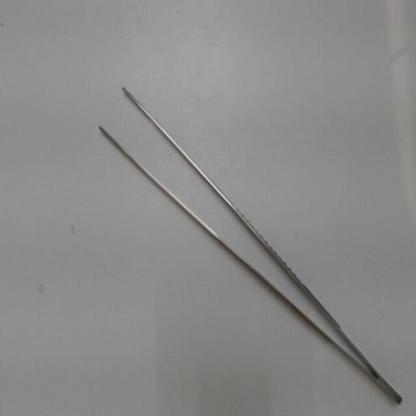DeBakey Dissector: (86, 52, 408, 413)
